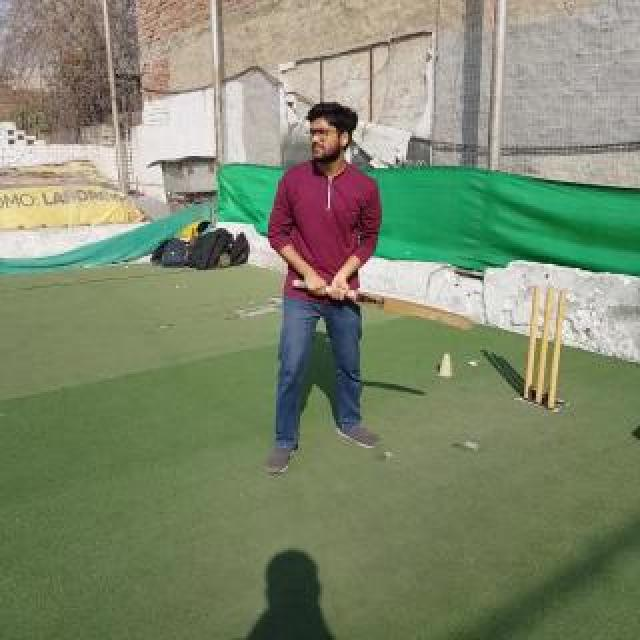bat: (292, 278, 474, 332)
